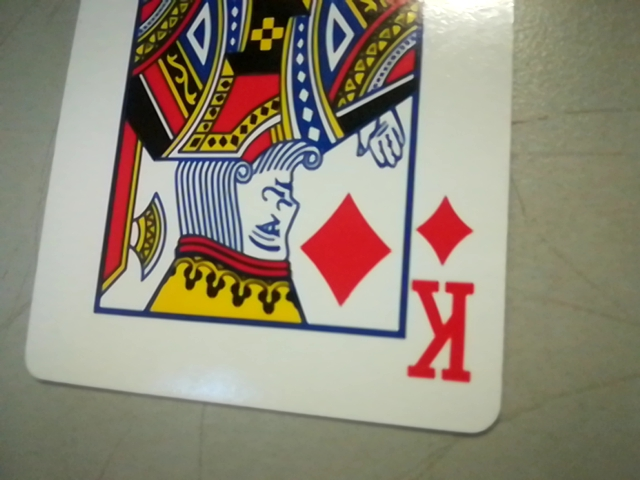fk k: (401, 191, 490, 394)
